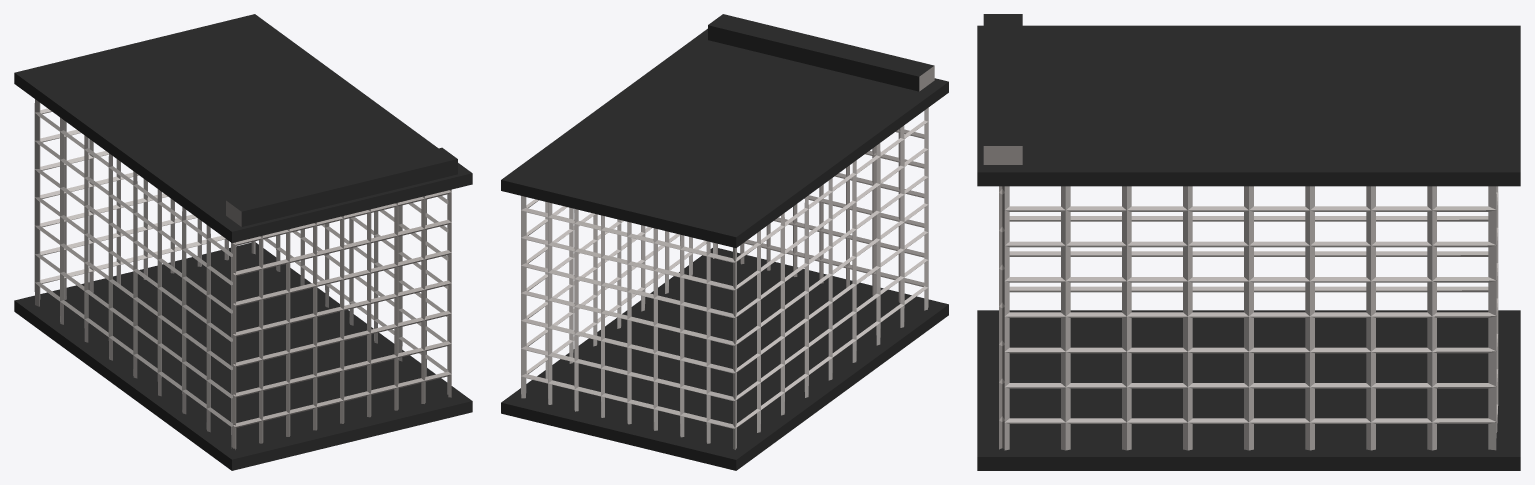
Rendered from cages.fbx.
3 renders of one model, left to right at view 1: azimuth 30°, elevation 25°; view 2: azimuth 150°, elevation 25°; view 3: azimuth 270°, elevation 25°, orthographic. The views are drawn at different scales.
Parts seen in each view (by area): view 1: Cube, Cube.001; view 2: Cube, Cube.001; view 3: Cube, Cube.001.
Boxes of the visible parts, x1=… form: Cube: x1=14, y1=14, x2=472, y2=470; Cube.001: x1=226, y1=147, x2=457, y2=449; Cube: x1=501, y1=28, x2=948, y2=470; Cube.001: x1=708, y1=14, x2=934, y2=307; Cube: x1=977, y1=25, x2=1520, y2=470; Cube.001: x1=983, y1=14, x2=1022, y2=449.
Bounding box in the file's own units: 275 × 278 × 431.
Materials: 2 (2 with a texture image).
